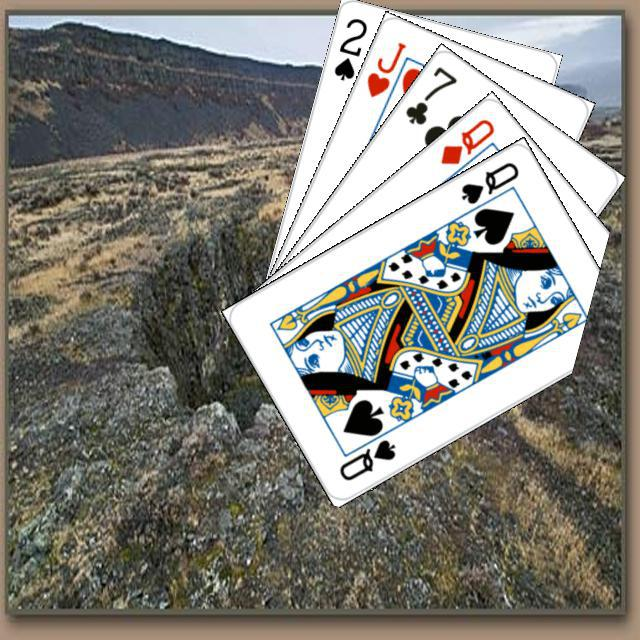2s: (328, 13, 369, 82)
7c: (400, 61, 459, 127)
Jh: (361, 37, 408, 99)
Qd: (435, 113, 496, 167)
Qs: (456, 157, 521, 206), (334, 434, 397, 483)
